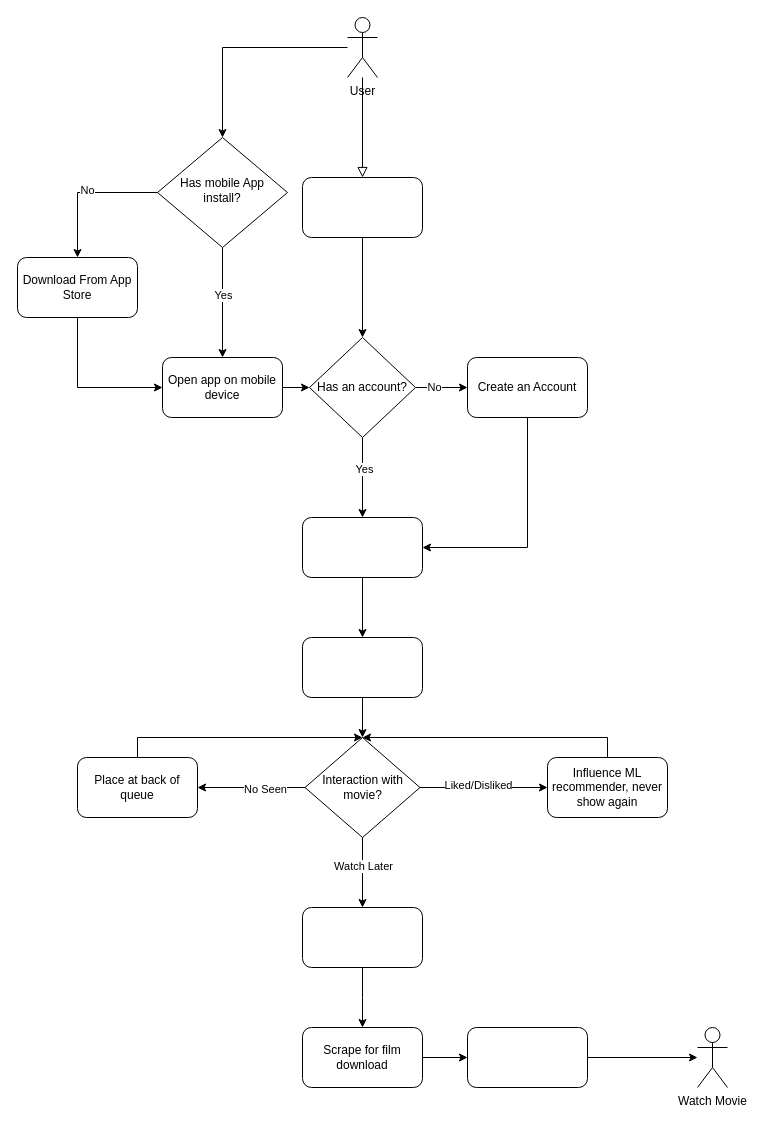
The diagram is 764 pixels wide and 1126 high, and some of its shapes have lost their labels. Here are the shapes that lost their labels. From the top down, the centre of each, then its label:
point (362, 207): Visit web app on Computer
point (362, 547): Sign-in
point (362, 667): Visit Home page and start swiping
point (362, 937): Send request to Radarr
point (527, 1057): Trigger download to plex media server
